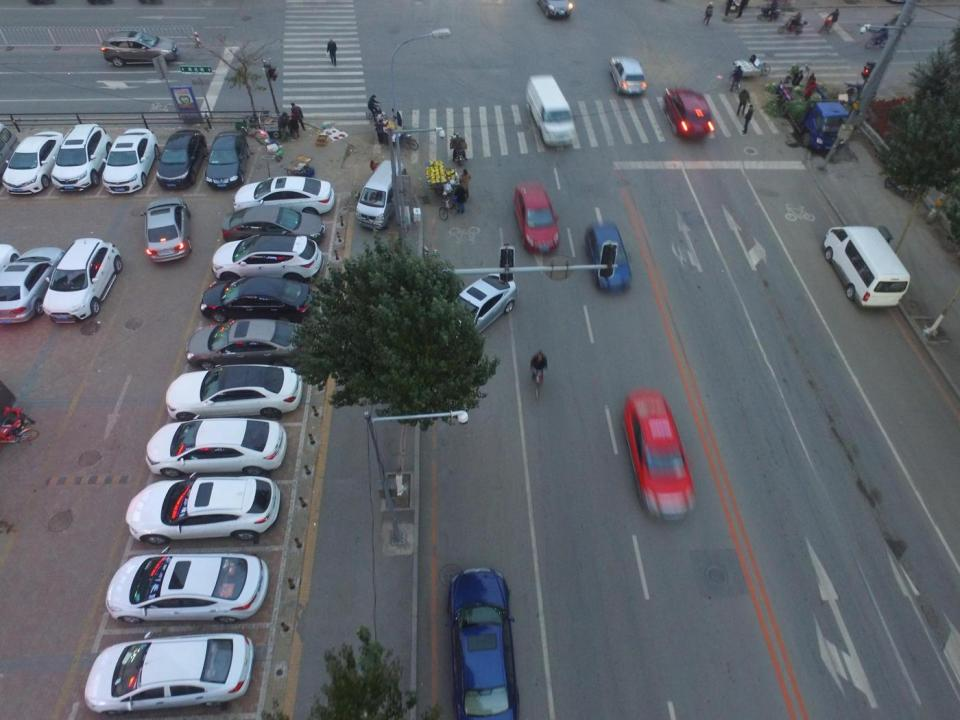car: (83, 632, 256, 713), (106, 553, 266, 623), (449, 565, 519, 720), (124, 480, 281, 542), (621, 389, 694, 522), (145, 417, 290, 476), (163, 370, 305, 419), (42, 238, 121, 325), (187, 322, 318, 365), (200, 274, 316, 322), (0, 246, 65, 326), (446, 272, 518, 337), (212, 238, 324, 278), (221, 205, 323, 247), (49, 124, 110, 193), (99, 126, 160, 193), (1, 130, 63, 195), (586, 223, 637, 294), (514, 181, 561, 255), (234, 179, 336, 211), (156, 127, 206, 190), (664, 84, 716, 140), (147, 197, 188, 262), (104, 32, 181, 65), (206, 132, 249, 191), (610, 58, 646, 99), (537, 0, 574, 21)
truck: (776, 82, 852, 154)
van: (826, 226, 908, 309), (525, 73, 577, 147), (354, 161, 406, 232)
